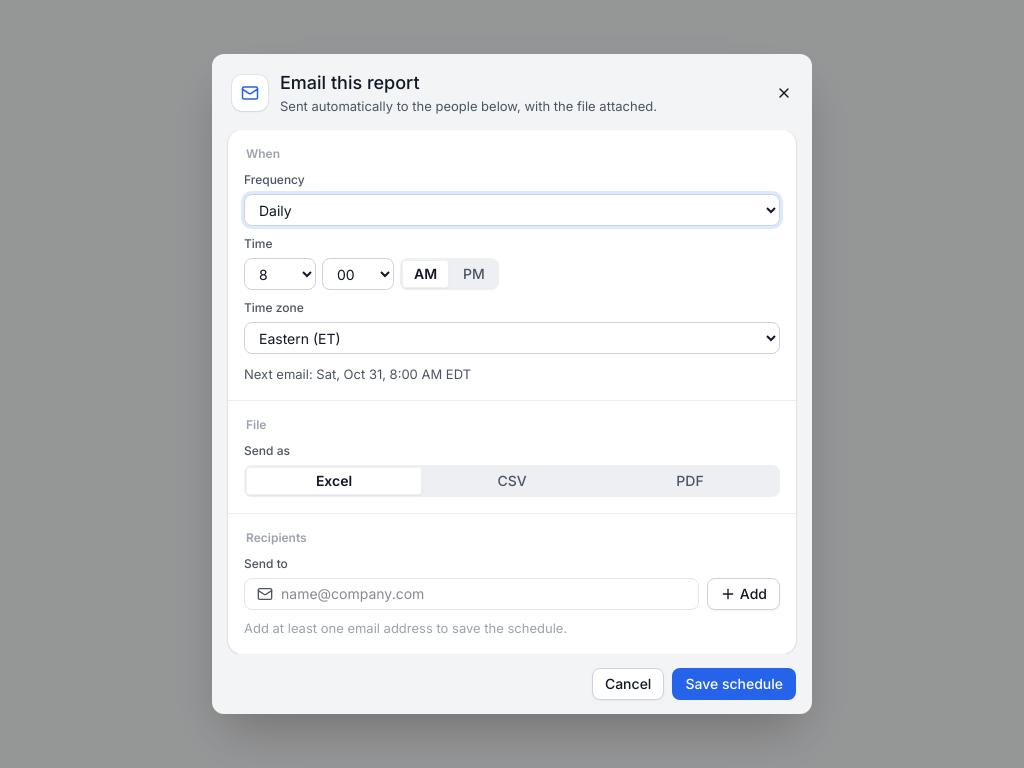
ScheduleForm › will not save without a recipient
Click the button "Save schedule" at [734, 684], box [672,668,796,700]
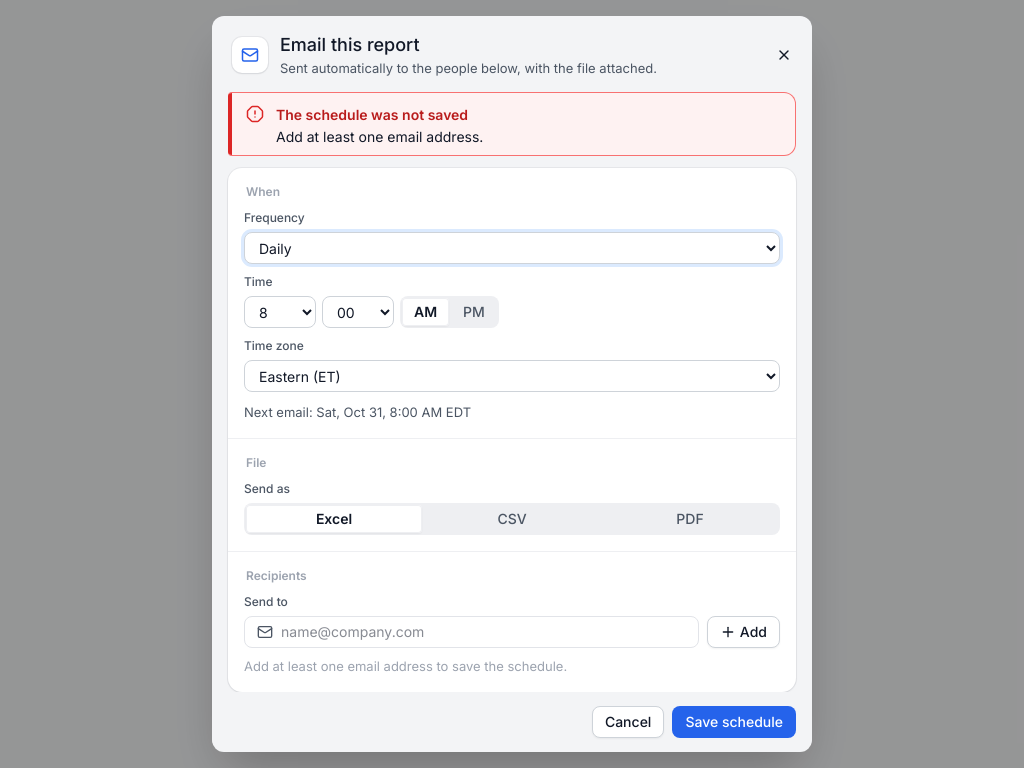
Now the text "Add at least one email address." is shown, box [276,128,483,145]
